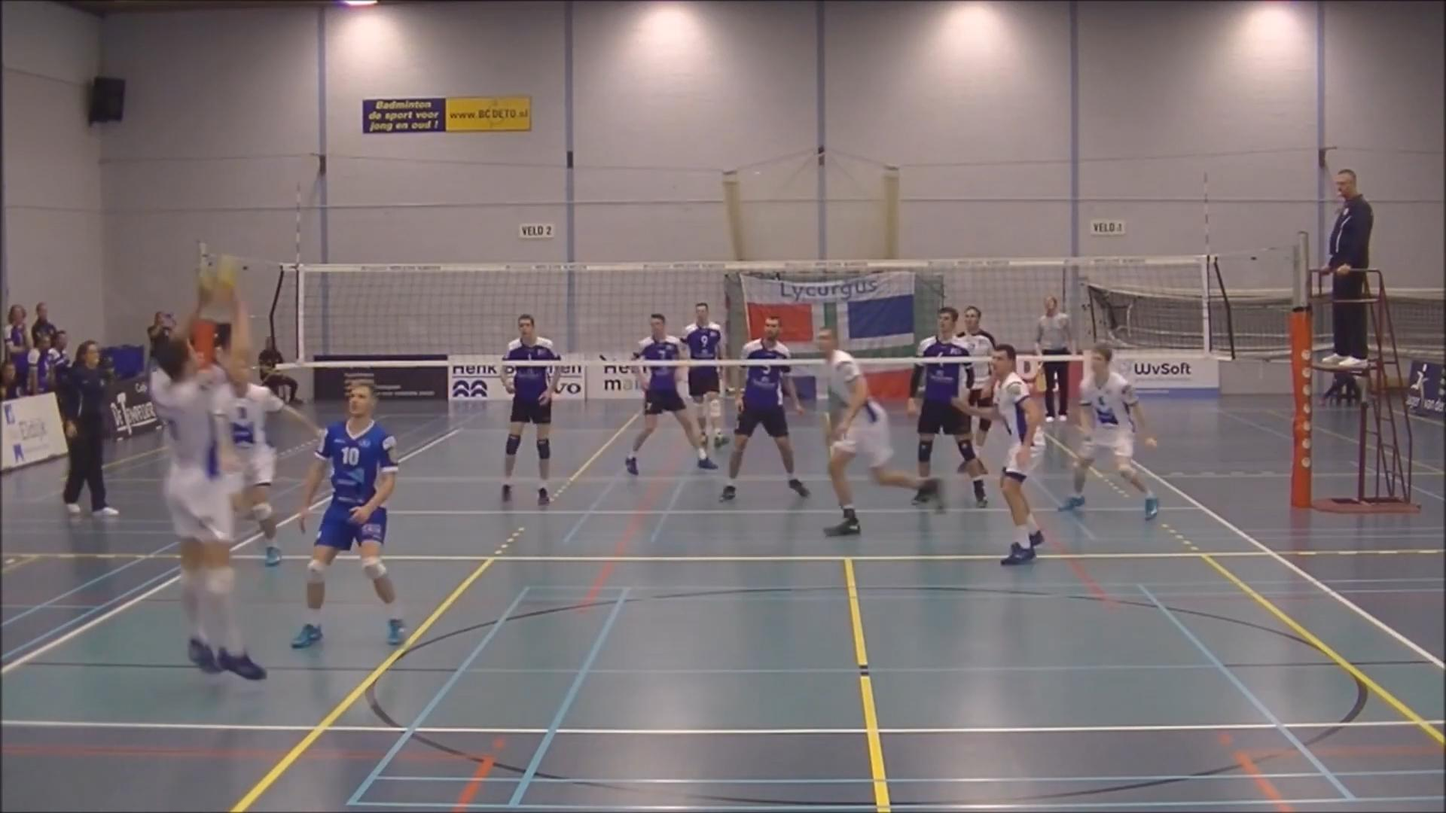alzata: (146, 259, 269, 685)
